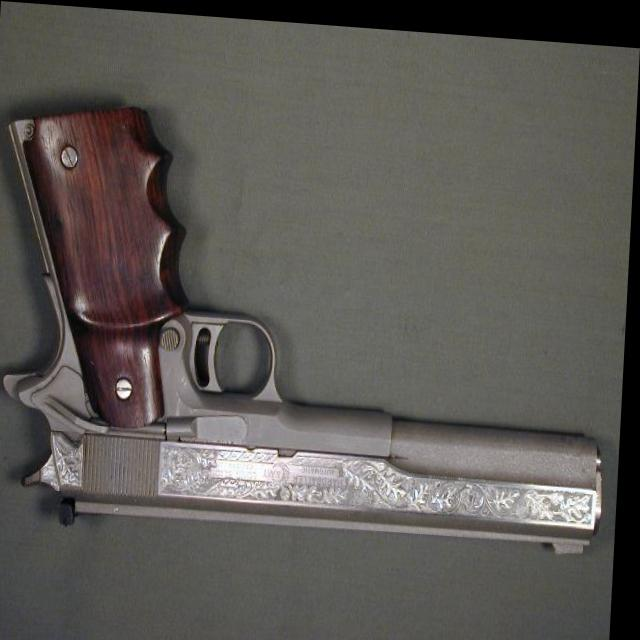handgun: (0, 95, 623, 551)
